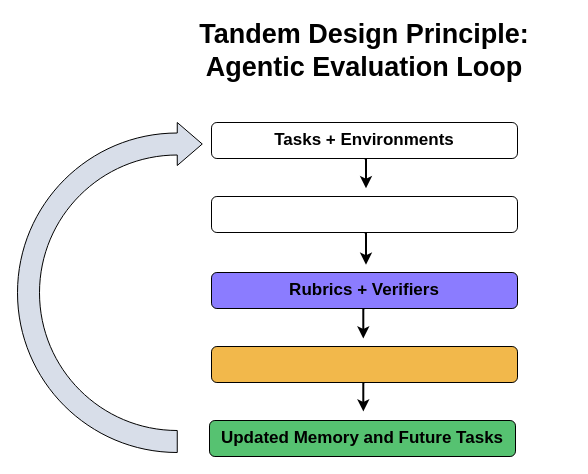
Image size: 588x474. Some labels were removed from this diagram. The shapes that lost their labels are listed below. From the top down, each one's centre as x and y in pixels, then its label:
the point at 364,214: Traces + Outputs
the point at 364,364: Quality Control + Packaging
